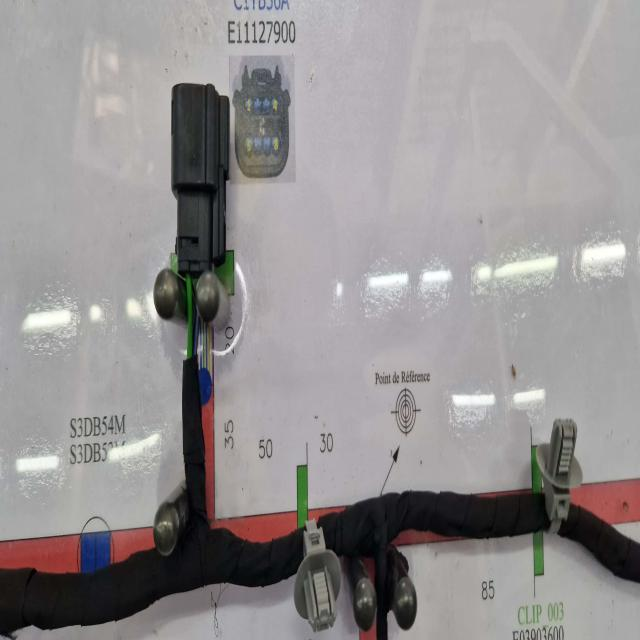Clip: (536, 419, 582, 533), (294, 519, 341, 630)
Connector: (171, 84, 230, 276)
Gape: (183, 281, 204, 357)
MHEV_N11_Cable: (0, 357, 309, 633), (320, 490, 549, 638), (560, 503, 640, 582)
